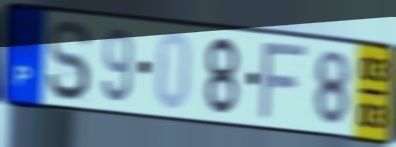0: (153, 29, 195, 114)
8: (203, 33, 244, 119), (311, 49, 354, 127)
9: (100, 26, 135, 106)
F: (256, 41, 310, 122)
S: (44, 18, 94, 104)
